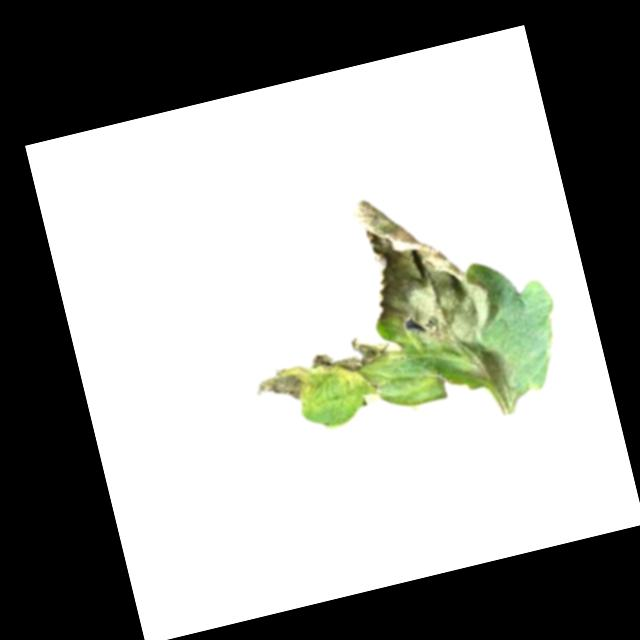Late_blight: (347, 176, 507, 367), (306, 326, 409, 393), (457, 340, 522, 414), (248, 360, 315, 409), (352, 378, 386, 409)
